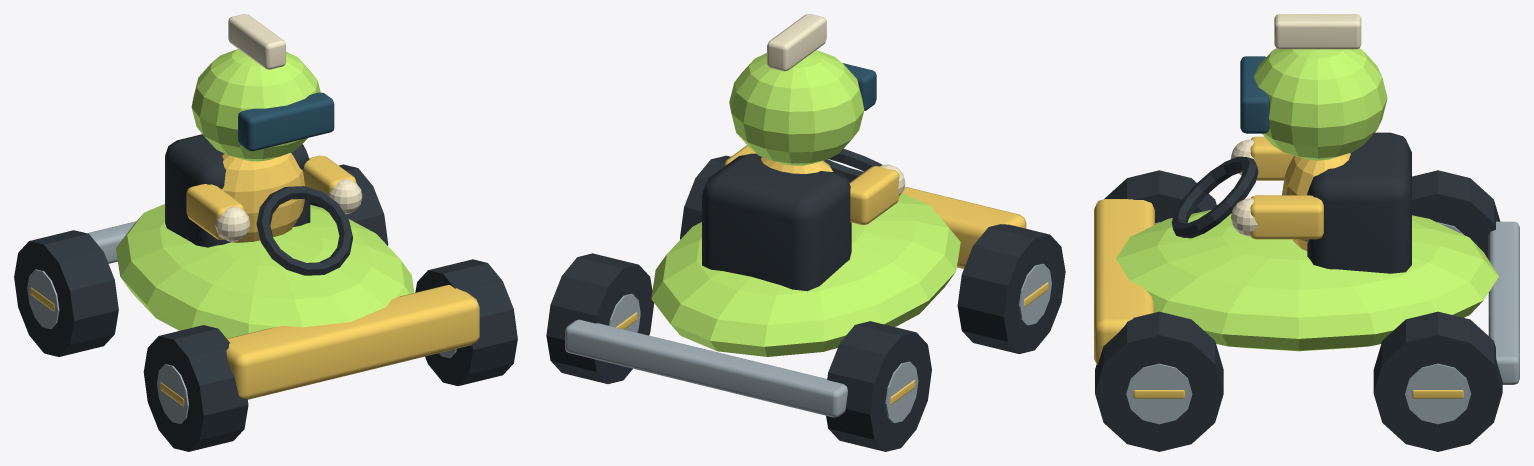
File: kart-0.glb
The picture shows the model from 3 angles, left to right: view 1: azimuth 30°, elevation 25°; view 2: azimuth 150°, elevation 25°; view 3: azimuth 270°, elevation 25°; orthographic projection. The views are drawn at different scales.
Visible parts, largest first — view 1: Body, Front shield, Tire.001, Tire, Helmet, Tire.002, Seat, Suit, Visor, Steering wheel, Crest, Sleeve (+7 smaller); view 2: Body, Seat, Helmet, Rear bumper, Tire, Tire.001, Tire.003, Front shield, Sleeve, Crest, Hub, Hub.001 (+5 smaller); view 3: Body, Helmet, Seat, Tire.003, Tire.002, Front shield, Rear bumper, Tire.001, Steering wheel, Sleeve.001, Crest, Hub.003 (+8 smaller).
Boxes of the visible parts, x1,y1,x2,y2 form: Body: [116, 204, 414, 338]; Front shield: [226, 285, 479, 399]; Tire.001: [14, 230, 118, 356]; Tire: [143, 325, 248, 451]; Helmet: [191, 49, 320, 161]; Tire.002: [415, 259, 517, 385]; Seat: [165, 134, 310, 247]; Suit: [221, 152, 304, 242]; Visor: [238, 92, 334, 151]; Steering wheel: [256, 186, 352, 275]; Crest: [228, 14, 285, 69]; Sleeve: [186, 184, 244, 239]; Body: [651, 193, 960, 356]; Seat: [702, 153, 851, 291]; Helmet: [729, 50, 864, 165]; Rear bumper: [565, 319, 847, 417]; Tire: [957, 224, 1065, 354]; Tire.001: [826, 321, 931, 451]; Tire.003: [546, 253, 654, 383]; Front shield: [902, 186, 1026, 268]; Sleeve: [849, 166, 899, 224]; Crest: [767, 14, 826, 71]; Hub: [1019, 263, 1051, 325]; Hub.001: [885, 361, 918, 423]; Body: [1116, 209, 1498, 351]; Helmet: [1253, 48, 1387, 160]; Seat: [1307, 132, 1411, 273]; Tire.003: [1373, 311, 1502, 451]; Tire.002: [1095, 311, 1223, 451]; Front shield: [1094, 199, 1154, 364]; Rear bumper: [1488, 221, 1519, 384]; Tire.001: [1412, 170, 1500, 259]; Steering wheel: [1171, 156, 1258, 238]; Sleeve.001: [1250, 195, 1323, 239]; Crest: [1274, 14, 1361, 49]; Hub.003: [1405, 363, 1470, 424].
Size of the model in its own units: 2.27 by 2.23 by 2.44.
